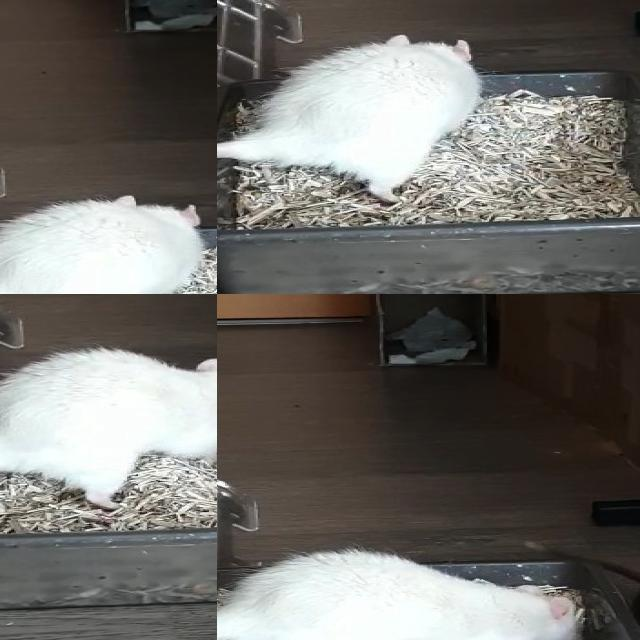rat: (0, 337, 217, 510), (262, 35, 478, 202), (217, 552, 582, 640), (0, 196, 205, 294)
